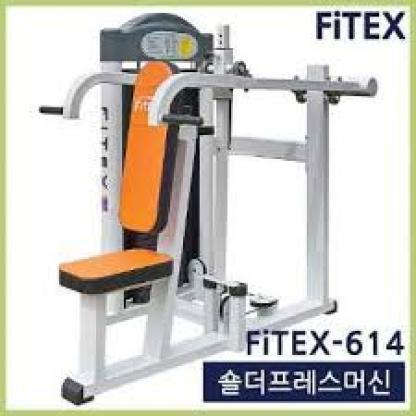shoulder press machine: (31, 8, 380, 406)
